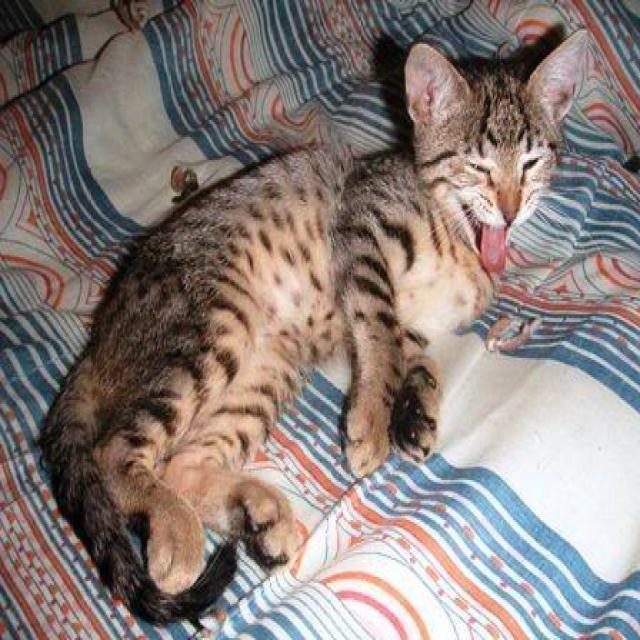Egyptian_Mau: (399, 29, 590, 285)
